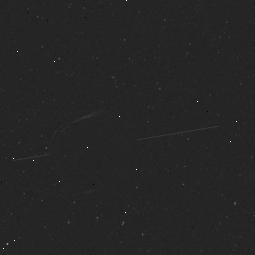double_start: (28, 112, 157, 191)
